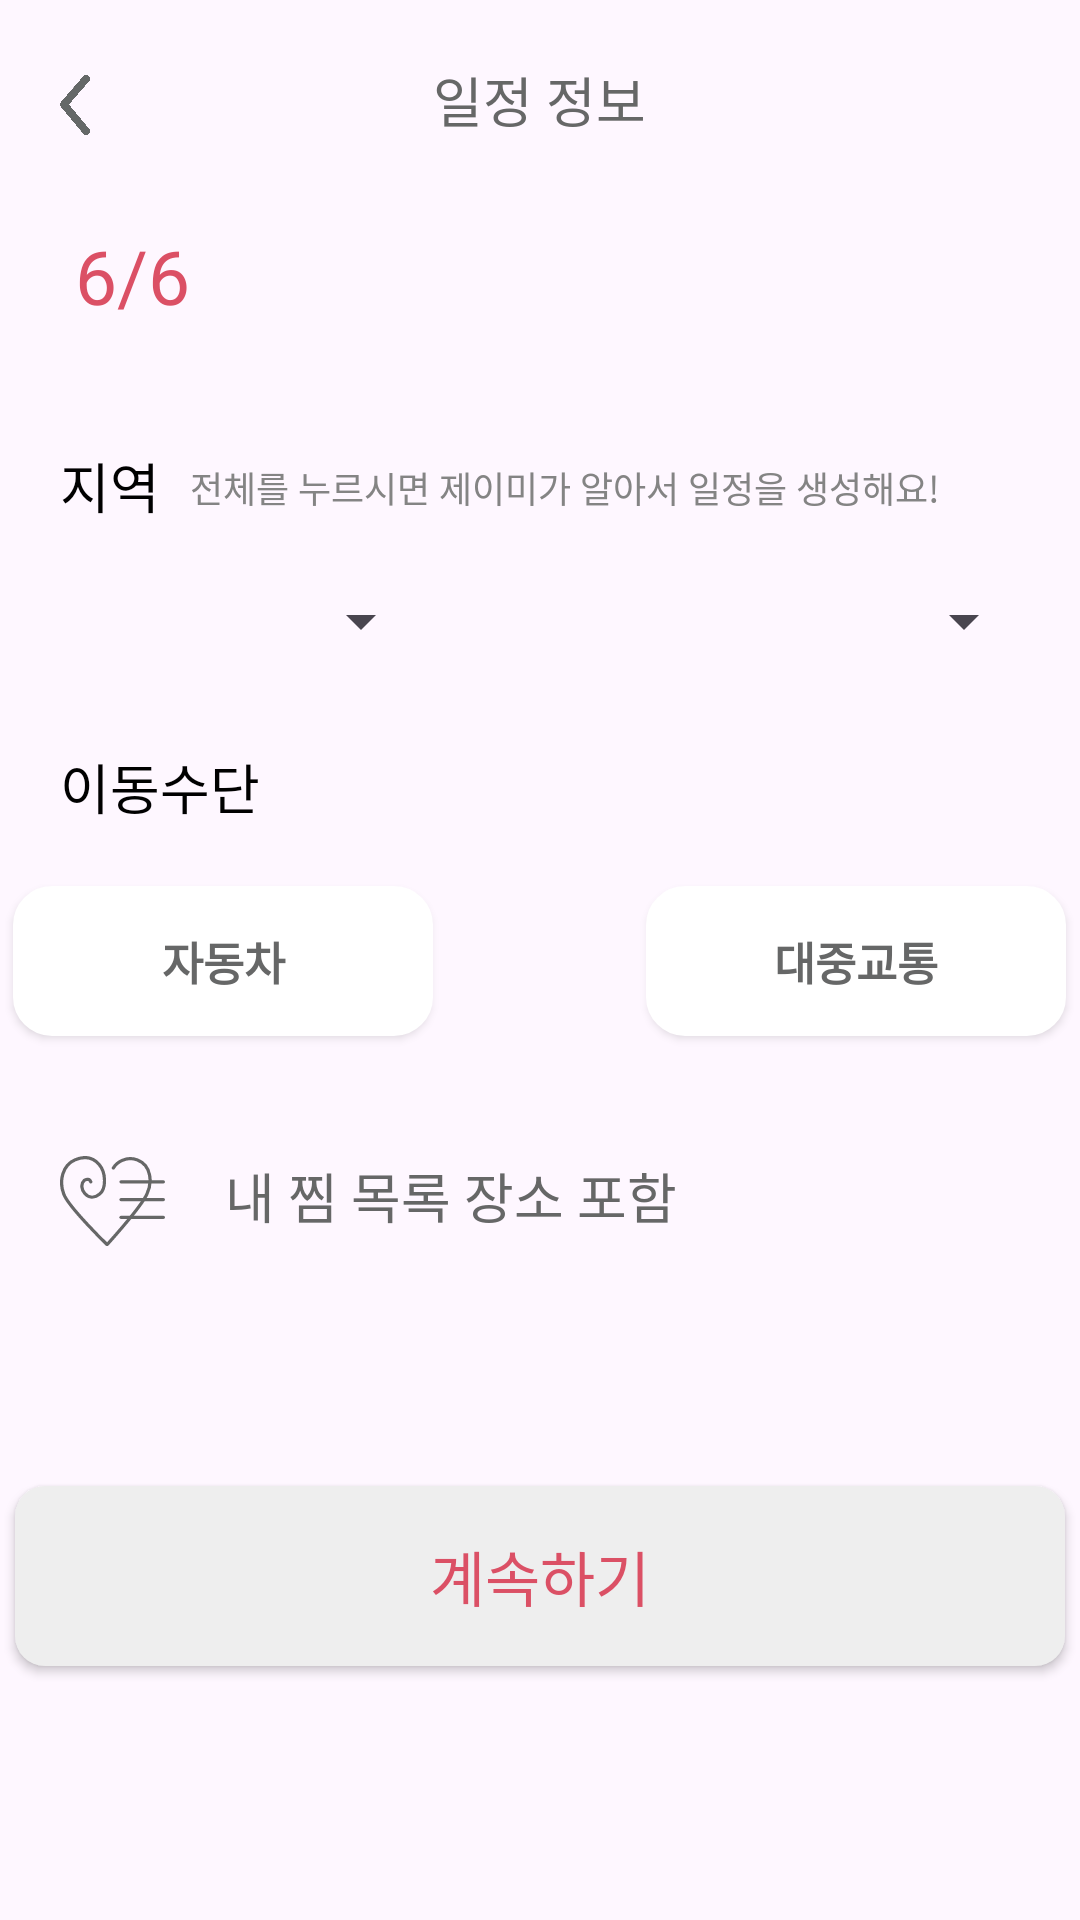

Screen size 1080 x 1920. Icon name, then its center in pixels as point (x, y):
wish list: point (112, 1201)
wlsback: point (75, 105)
